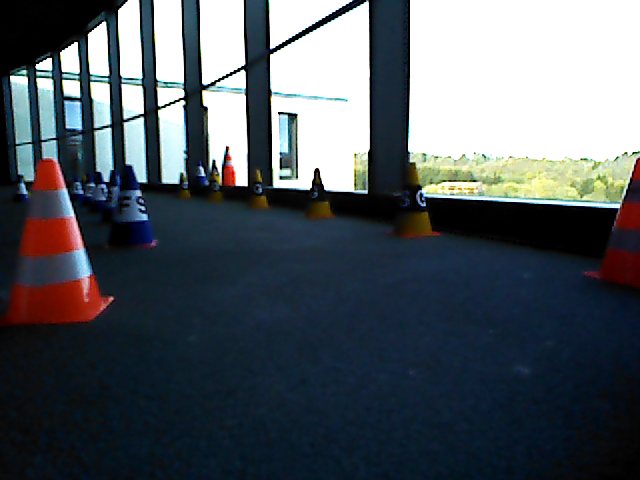bluecone: (111, 166, 150, 242)
orangeconesmall: (7, 158, 105, 324), (586, 158, 640, 285)
yellowcone: (397, 162, 430, 234), (307, 169, 329, 214), (251, 169, 266, 206)
